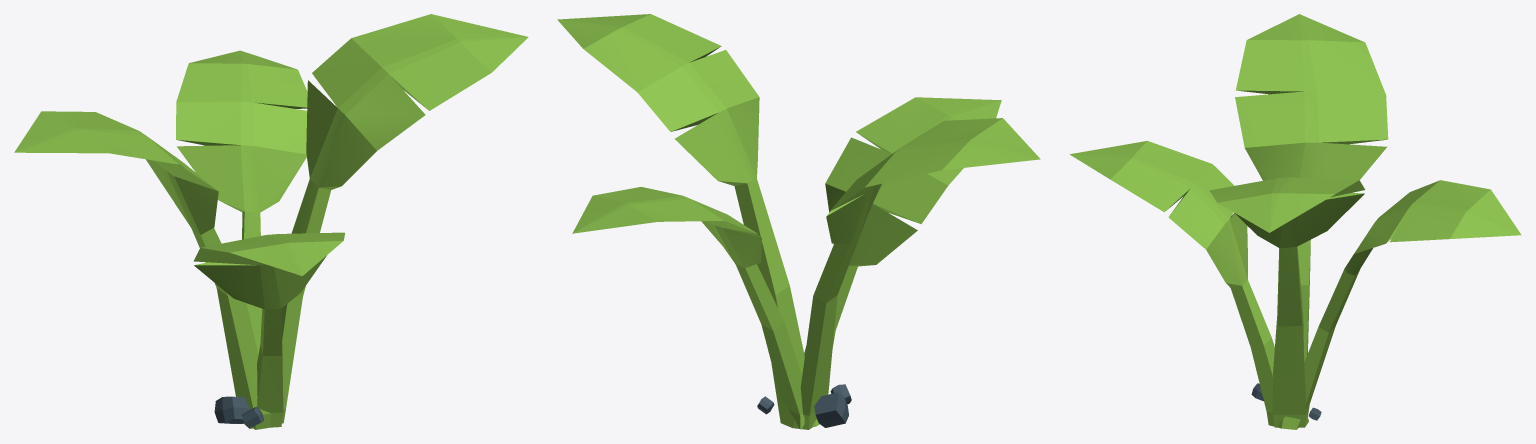
Rendered from Houseplant02.fbx.
3 views of the same model, side by side, from view 1: azimuth 30°, elevation 25°; view 2: azimuth 150°, elevation 25°; view 3: azimuth 270°, elevation 25° (orthographic). The views are drawn at different scales.
Visible parts, largest first — view 1: plant_01_Cube.006; view 2: plant_01_Cube.006; view 3: plant_01_Cube.006.
Boxes of the visible parts, box(x1,y1,x2,y2) form: plant_01_Cube.006: box(14, 14, 528, 429); plant_01_Cube.006: box(557, 14, 1040, 429); plant_01_Cube.006: box(1069, 14, 1521, 429).
Bounding box in the file's own units: 22764 × 14881 × 19389.
